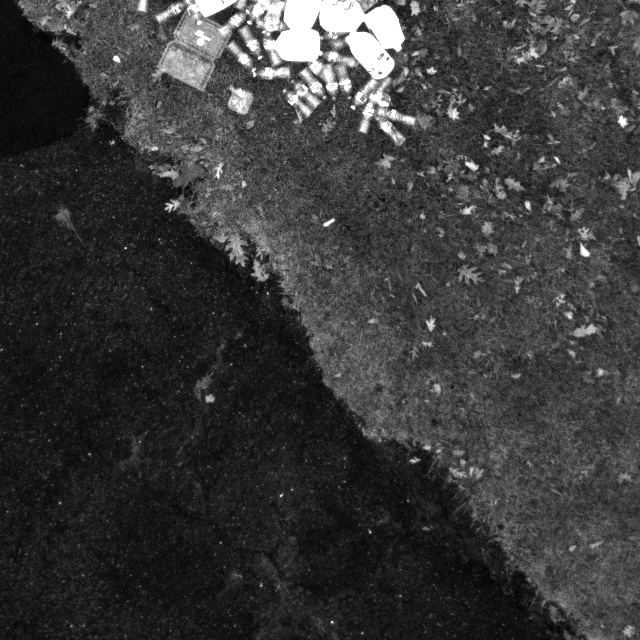bottle: (235, 23, 268, 66), (370, 114, 409, 149), (296, 65, 330, 103), (223, 38, 256, 76), (279, 86, 314, 121), (287, 78, 323, 111), (258, 28, 285, 70), (349, 79, 382, 112), (364, 75, 395, 109), (374, 106, 417, 130), (356, 98, 381, 138), (315, 49, 360, 71), (332, 62, 354, 104), (248, 66, 293, 83)
can: (342, 29, 396, 81), (362, 2, 410, 56), (264, 26, 324, 64)
container: (152, 6, 233, 93), (225, 87, 255, 115)
